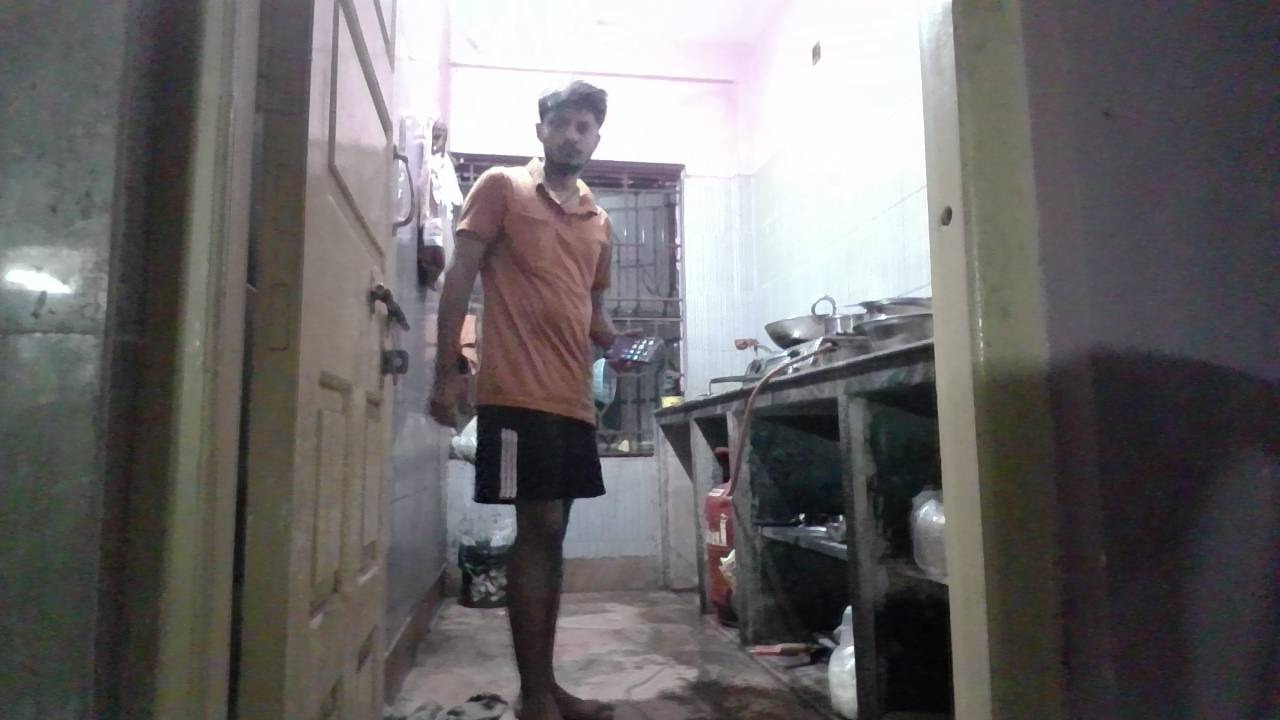red_box: (490, 387, 573, 418)
